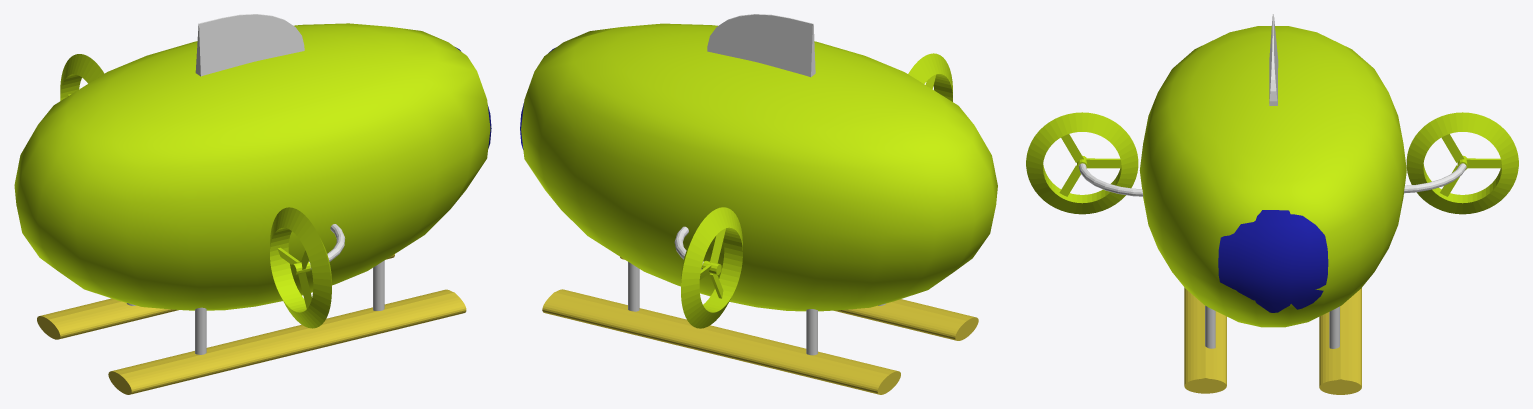
File: submarin.glb
3 views of the same model, side by side, from view 1: azimuth 30°, elevation 25°; view 2: azimuth 150°, elevation 25°; view 3: azimuth 270°, elevation 25° (orthographic). The views are drawn at different scales.
Parts seen in each view (by area): view 1: carlinga, pluta dreapta, propulsor dreapta, Cube, pluta stanga, propulsor.001, picior dreapta fata, picior dreapta spate; view 2: carlinga, pluta stanga, propulsor.001, Cube, pluta dreapta, propulsor dreapta, picior stanga fata, picior stanga spate; view 3: carlinga, fereastra fata, propulsor dreapta, propulsor.001, pluta stanga, pluta dreapta, Cube, bara propulsor dreapta, bara propulsor dreapta.001, picior dreapta fata, picior stanga fata.
Boxes of the visible parts, <box> form: carlinga: <box>14,23,490,310</box>; pluta dreapta: <box>108,289,466,394</box>; propulsor dreapta: <box>270,207,331,328</box>; Cube: <box>195,14,304,76</box>; pluta stanga: <box>37,254,394,339</box>; propulsor.001: <box>60,54,104,100</box>; picior dreapta fata: <box>373,260,384,310</box>; picior dreapta spate: <box>195,307,206,354</box>; carlinga: <box>521,23,997,311</box>; pluta stanga: <box>542,289,900,394</box>; propulsor.001: <box>681,207,742,328</box>; Cube: <box>707,14,815,77</box>; pluta dreapta: <box>620,257,978,340</box>; propulsor dreapta: <box>908,53,952,101</box>; picior stanga fata: <box>628,262,639,311</box>; picior stanga spate: <box>806,309,817,355</box>; carlinga: <box>1139,26,1406,327</box>; fereastra fata: <box>1218,210,1328,312</box>; propulsor dreapta: <box>1026,112,1138,214</box>; propulsor.001: <box>1406,112,1518,214</box>; pluta stanga: <box>1319,288,1361,394</box>; pluta dreapta: <box>1184,287,1226,393</box>; Cube: <box>1269,14,1278,105</box>; bara propulsor dreapta: <box>1078,163,1143,196</box>; bara propulsor dreapta.001: <box>1404,163,1466,193</box>; picior dreapta fata: <box>1205,305,1215,348</box>; picior stanga fata: <box>1329,306,1339,348</box>.
Bounding box in the file's own units: 6.15 × 4.12 × 6.49.
